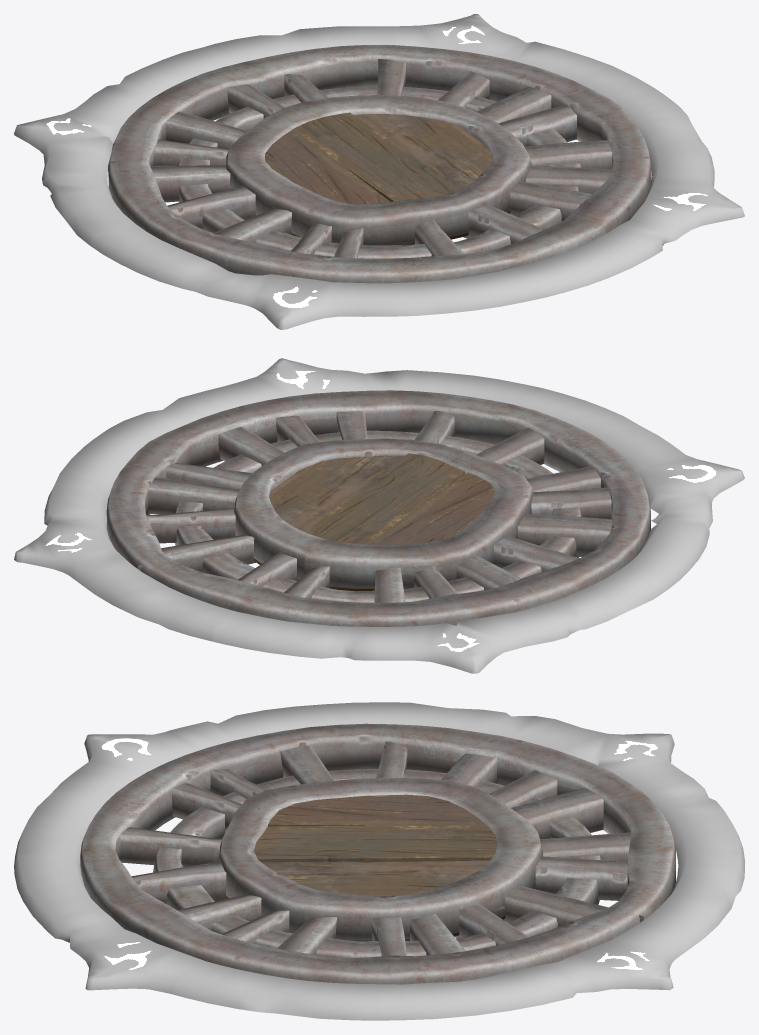
The model's file is Wooden_Circle_C.fbx.
3 views of the same model, one above another, from view 1: azimuth 30°, elevation 25°; view 2: azimuth 150°, elevation 25°; view 3: azimuth 270°, elevation 25° (orthographic). The views are drawn at different scales.
Visible parts, largest first — view 1: Dn_HL_Wooden_Circle_C.001; view 2: Dn_HL_Wooden_Circle_C.001; view 3: Dn_HL_Wooden_Circle_C.001.
Part boxes in pixels (x1,y1,x2,y2): Dn_HL_Wooden_Circle_C.001: (14, 14, 744, 329); Dn_HL_Wooden_Circle_C.001: (14, 358, 744, 673); Dn_HL_Wooden_Circle_C.001: (14, 702, 744, 1020).
Bounding box in the file's own units: 6715 × 436 × 6712.
